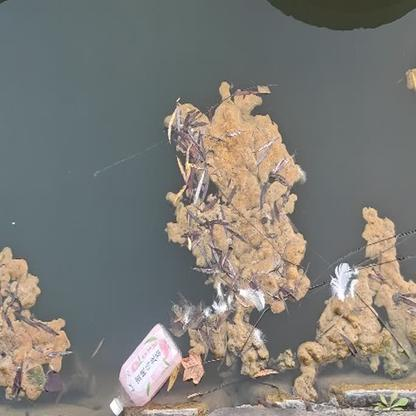plastic bottle: (110, 323, 180, 413)
